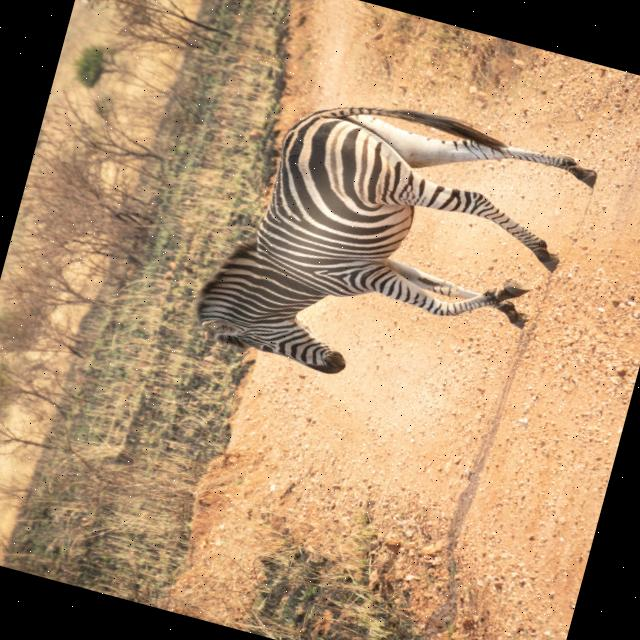Zebra: (184, 65, 602, 428)
